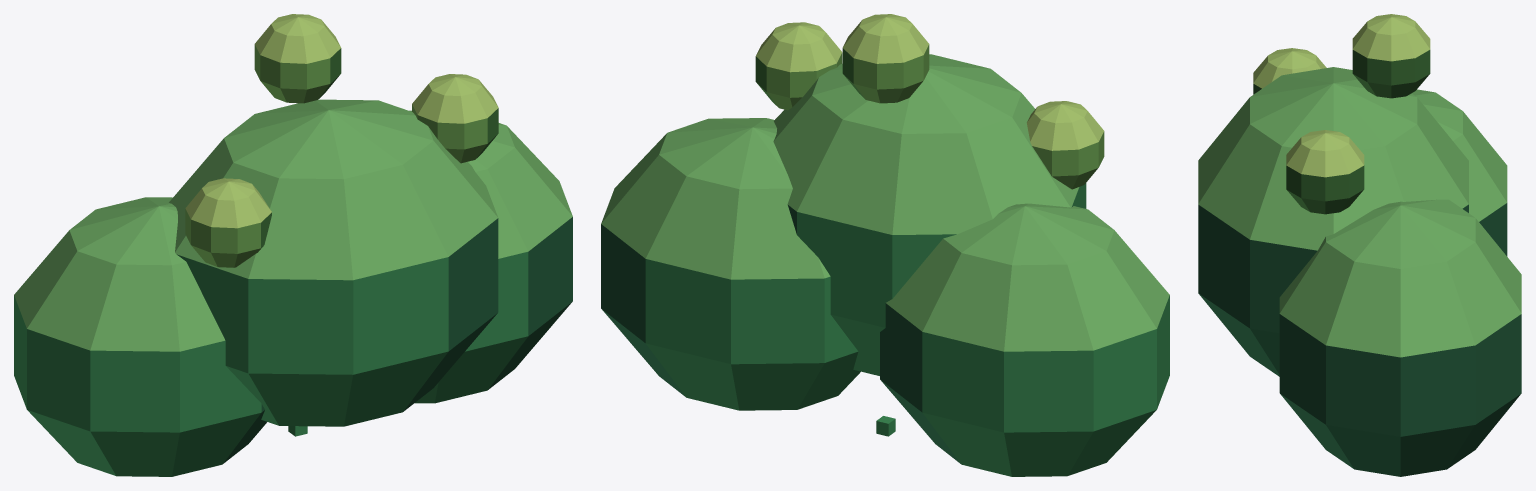
The model's file is berry_stage_03.fbx.
3 views of the same model, side by side, from view 1: azimuth 30°, elevation 25°; view 2: azimuth 150°, elevation 25°; view 3: azimuth 270°, elevation 25° (orthographic). The views are drawn at different scales.
Visible parts, largest first — view 1: berry_stage_03__Foliage; view 2: berry_stage_03__Foliage; view 3: berry_stage_03__Foliage.
Boxes of the visible parts, left/top/right/bottom form: berry_stage_03__Foliage: left=14, top=14, right=572, bottom=476; berry_stage_03__Foliage: left=601, top=14, right=1169, bottom=476; berry_stage_03__Foliage: left=1198, top=14, right=1521, bottom=476.
Bounding box in the file's own units: 1.76 × 1.3 × 0.978.
Materials: 1 (1 with a texture image).
